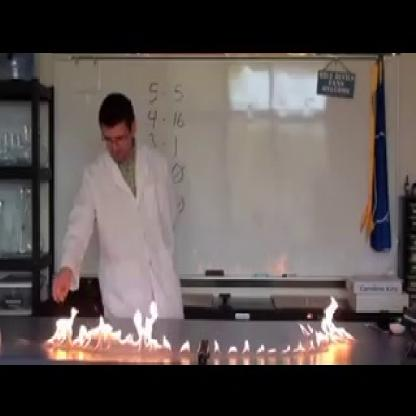fire: (40, 298, 172, 352), (294, 292, 356, 356)
